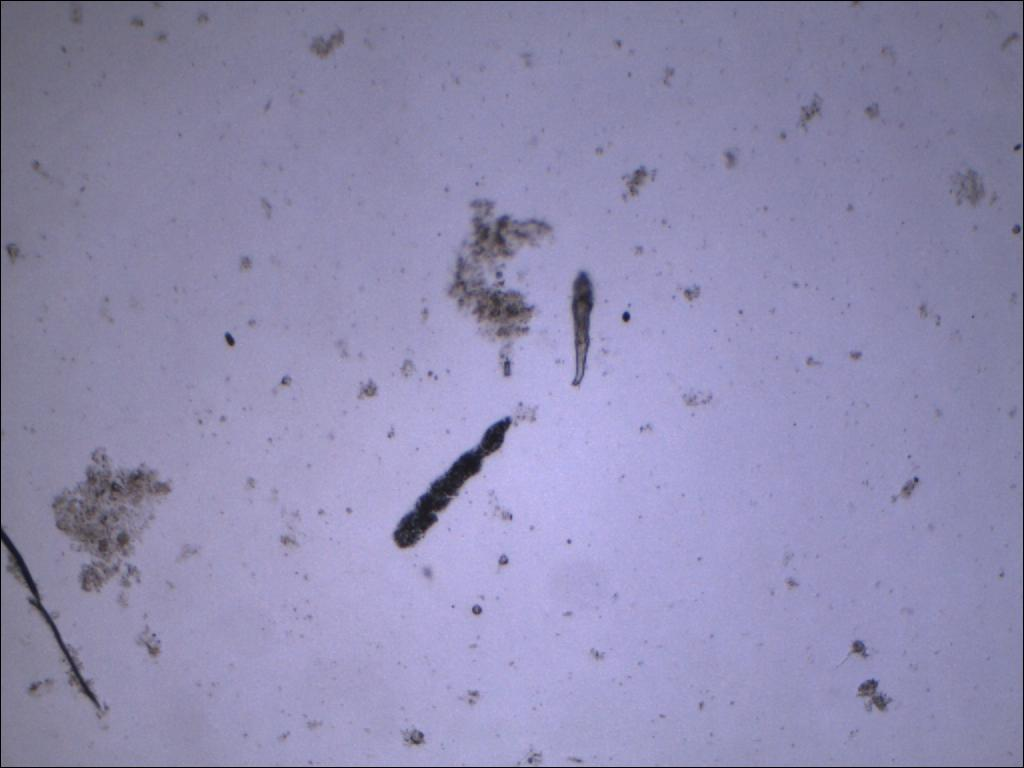amoeba: (391, 415, 520, 553)
